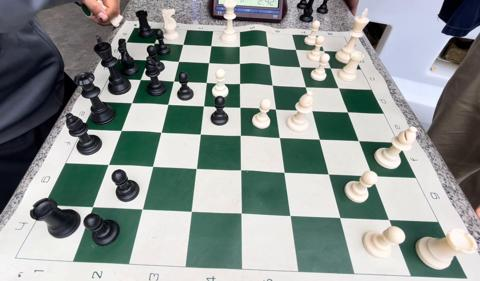xcorner: (86, 200, 98, 211), (234, 207, 246, 218), (278, 165, 289, 177), (322, 167, 333, 179), (199, 99, 210, 111), (264, 59, 275, 71), (324, 62, 336, 73), (136, 202, 147, 213), (185, 205, 196, 216), (284, 209, 295, 220), (333, 211, 344, 222), (382, 213, 393, 224), (103, 158, 114, 169), (147, 160, 158, 171), (191, 162, 202, 173), (234, 164, 245, 175), (366, 169, 377, 180), (117, 124, 128, 135), (156, 126, 167, 137), (195, 127, 206, 138), (234, 129, 245, 140), (274, 131, 285, 142), (313, 133, 324, 144), (352, 134, 363, 145), (127, 96, 138, 107), (163, 98, 174, 109), (234, 101, 245, 112), (270, 103, 281, 114), (306, 104, 317, 115), (341, 106, 352, 117), (136, 73, 147, 84), (169, 75, 180, 86), (202, 76, 213, 87), (234, 78, 245, 89), (267, 79, 278, 90), (300, 81, 311, 92), (332, 82, 343, 93), (144, 54, 155, 65), (174, 55, 185, 66), (204, 57, 215, 68), (234, 58, 245, 69), (294, 61, 305, 72), (151, 38, 162, 49), (178, 39, 189, 50), (206, 40, 217, 51), (234, 41, 245, 52), (262, 43, 273, 54), (290, 44, 301, 55), (318, 45, 329, 56)
